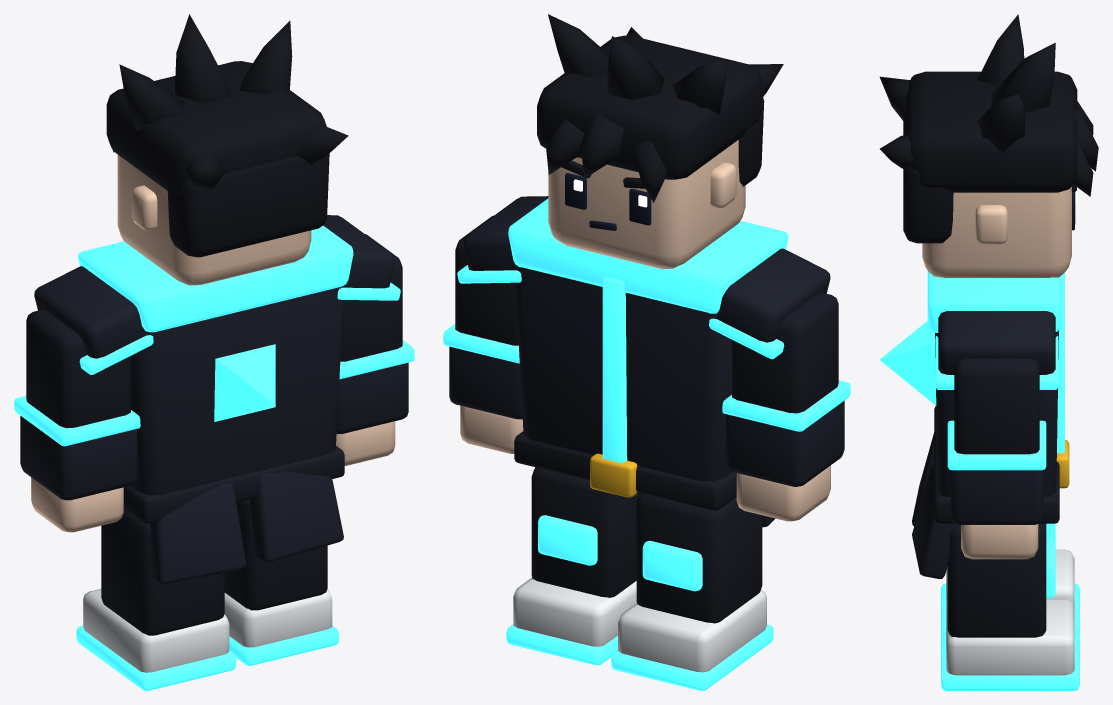
File: vanguard_hero.glb
3 views of the same model, side by side, from view 1: azimuth 30°, elevation 25°; view 2: azimuth 150°, elevation 25°; view 3: azimuth 270°, elevation 25° (orthographic). The views are drawn at different scales.
Parts seen in each view (by area): view 1: TorsoCore, HairCap, Collar, HairBack, LeftLeg, LeftUpperArm, Head, CoatTail_-1, CoatTail_1, LeftGauntlet, Pauldron_-1, LeftShoeUpper (+21 smaller); view 2: TorsoCore, HairCap, Head, Collar, LeftLeg, RightLeg, LeftUpperArm, LeftShoeUpper, LeftGauntlet, Pauldron_-1, RightShoeUpper, WaistBelt (+25 smaller); view 3: HairCap, Head, RightLeg, RightUpperArm, Pauldron_1, RightShoeUpper, RightGauntlet, Collar, TorsoCore, HairBack, RightShoeSole, RightHand (+19 smaller).
Boxes of the visible parts, x1=… form: TorsoCore: x1=130, y1=286, x2=343, y2=495; HairCap: x1=106, y1=61, x2=326, y2=194; Collar: x1=78, y1=225, x2=353, y2=332; HairBack: x1=167, y1=153, x2=329, y2=257; LeftLeg: x1=101, y1=508, x2=224, y2=635; LeftUpperArm: x1=26, y1=309, x2=130, y2=428; Head: x1=117, y1=154, x2=311, y2=285; CoatTail_-1: x1=149, y1=483, x2=246, y2=584; CoatTail_1: x1=249, y1=472, x2=343, y2=562; LeftGauntlet: x1=20, y1=416, x2=137, y2=500; Pauldron_-1: x1=34, y1=266, x2=145, y2=358; LeftShoeUpper: x1=83, y1=589, x2=229, y2=672; TorsoCore: x1=515, y1=265, x2=732, y2=481; HairCap: x1=537, y1=35, x2=762, y2=179; Head: x1=548, y1=140, x2=745, y2=269; Collar: x1=508, y1=198, x2=788, y2=313; LeftLeg: x1=636, y1=493, x2=762, y2=623; RightLeg: x1=531, y1=467, x2=639, y2=597; LeftUpperArm: x1=732, y1=292, x2=838, y2=413; LeftShoeUpper: x1=618, y1=590, x2=766, y2=672; LeftGauntlet: x1=725, y1=400, x2=844, y2=486; Pauldron_-1: x1=716, y1=248, x2=830, y2=342; RightShoeUpper: x1=513, y1=577, x2=636, y2=646; WaistBelt: x1=514, y1=431, x2=736, y2=510; HairCap: x1=906, y1=71, x2=1077, y2=192; Head: x1=922, y1=187, x2=1071, y2=277; RightLeg: x1=947, y1=523, x2=1046, y2=637; RightUpperArm: x1=954, y1=358, x2=1039, y2=454; Pauldron_1: x1=938, y1=311, x2=1055, y2=374; RightShoeUpper: x1=946, y1=599, x2=1074, y2=675; RightGauntlet: x1=950, y1=470, x2=1043, y2=524; Collar: x1=927, y1=271, x2=1060, y2=332; TorsoCore: x1=935, y1=330, x2=1058, y2=496; HairBack: x1=903, y1=116, x2=953, y2=243; RightShoeSole: x1=941, y1=633, x2=1079, y2=690; RightHand: x1=961, y1=524, x2=1038, y2=559.
Bounding box in the file's own units: 1.51 × 2.5 × 0.82.
